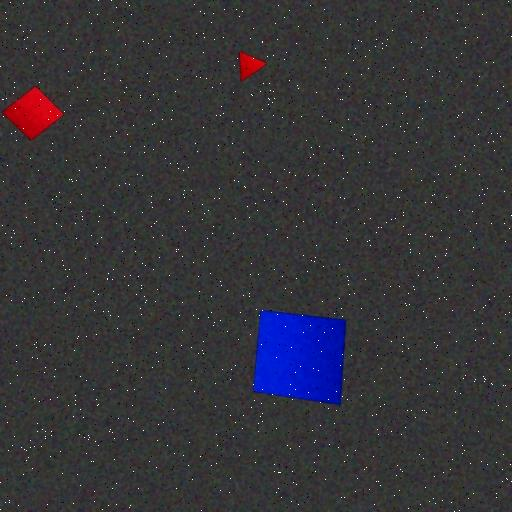BLUE_SQUARE: (252, 310, 347, 406)
RED_SQUARE: (1, 86, 65, 142)
